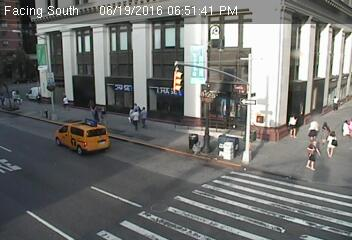neg: (153, 14, 171, 39), (213, 140, 230, 163), (317, 39, 333, 61), (189, 141, 205, 162), (290, 42, 305, 61), (53, 56, 67, 76), (85, 135, 99, 154), (10, 132, 24, 151), (67, 24, 80, 42), (41, 146, 54, 163), (149, 159, 162, 176), (128, 171, 140, 187), (242, 19, 253, 34), (40, 193, 51, 208), (147, 29, 156, 41), (210, 186, 219, 198), (258, 178, 267, 190), (84, 174, 93, 186), (235, 93, 243, 104), (268, 85, 276, 95), (109, 32, 117, 41), (212, 44, 219, 54), (187, 57, 194, 66)
pos: (299, 138, 323, 170), (321, 129, 342, 157), (303, 117, 324, 144), (316, 119, 335, 144), (283, 112, 302, 137), (135, 105, 154, 129), (327, 89, 342, 110), (7, 85, 22, 105), (95, 102, 109, 122), (58, 93, 72, 112), (129, 108, 142, 126), (340, 118, 351, 137), (86, 102, 98, 119), (133, 99, 140, 107)
